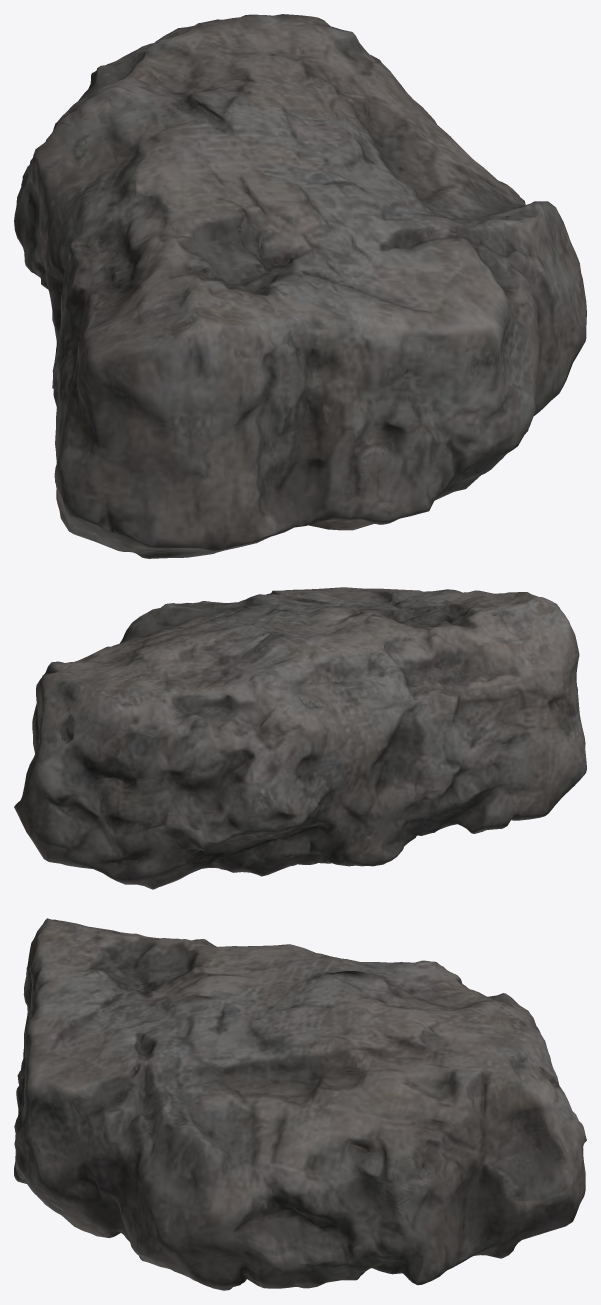
File: SM_rock_02.glb
3 renders of one model, top to bottom at view 1: azimuth 30°, elevation 25°; view 2: azimuth 150°, elevation 25°; view 3: azimuth 270°, elevation 25°, orthographic. The views are drawn at different scales.
Parts seen in each view (by area): view 1: SM_rock_02; view 2: SM_rock_02; view 3: SM_rock_02.
Part boxes in pixels (x1=…): SM_rock_02: x1=14, y1=14, x2=586, y2=558; SM_rock_02: x1=14, y1=587, x2=586, y2=889; SM_rock_02: x1=14, y1=918, x2=586, y2=1290.
Bounding box in the file's own units: 3.3 × 1.66 × 3.56.
1 material, 1 textured.
